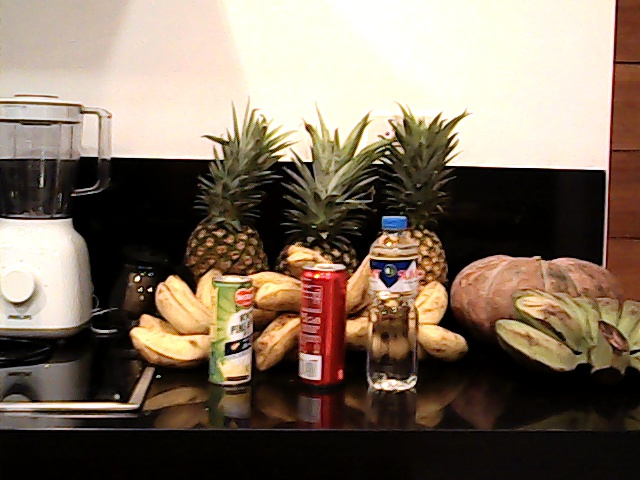Cola: (291, 256, 350, 389)
Pine Juice: (206, 272, 261, 383)
Summit Water: (367, 206, 420, 394)
